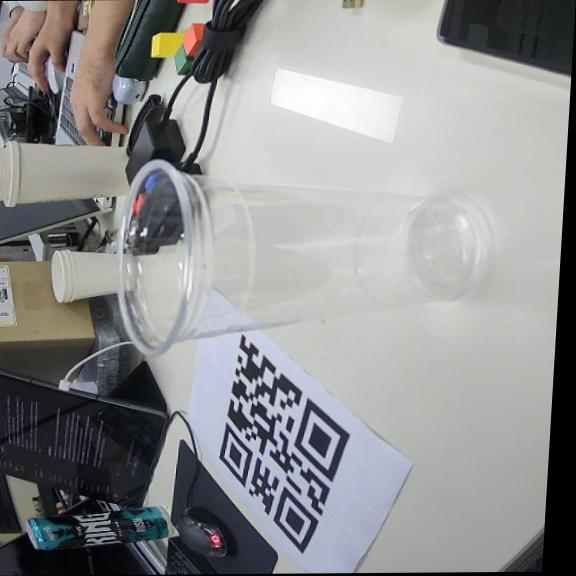Plastik: (118, 160, 483, 354)
